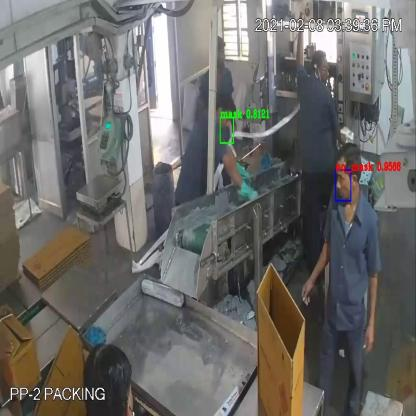glove: (216, 146, 262, 209)
no_glove: (296, 232, 339, 313), (362, 250, 384, 364)
